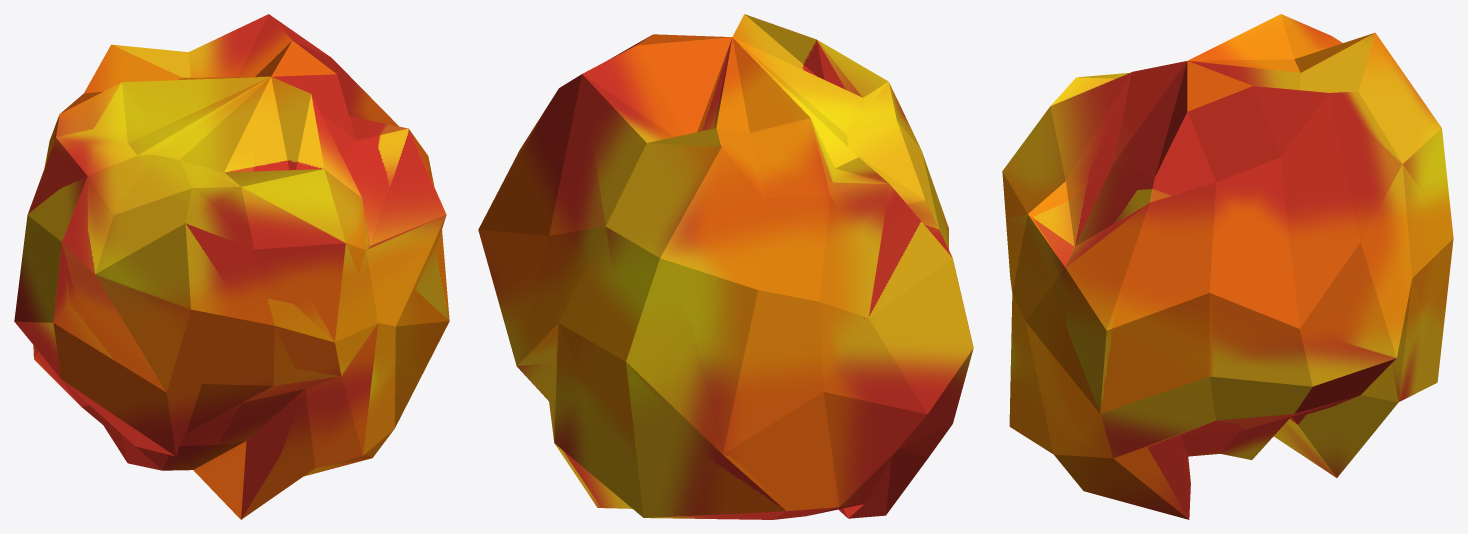
The model's file is fire.glb.
3 views of the same model, side by side, from view 1: azimuth 30°, elevation 25°; view 2: azimuth 150°, elevation 25°; view 3: azimuth 270°, elevation 25° (orthographic). The views are drawn at different scales.
Visible parts, largest first — view 1: Sphere; view 2: Sphere; view 3: Sphere.
Part boxes in pixels (x1,y1,x2,y2): Sphere: [14, 14, 449, 519]; Sphere: [478, 14, 973, 519]; Sphere: [1002, 14, 1453, 519].
Bounding box in the file's own units: 2.27 × 2.26 × 2.04.
1 material, 1 textured.
